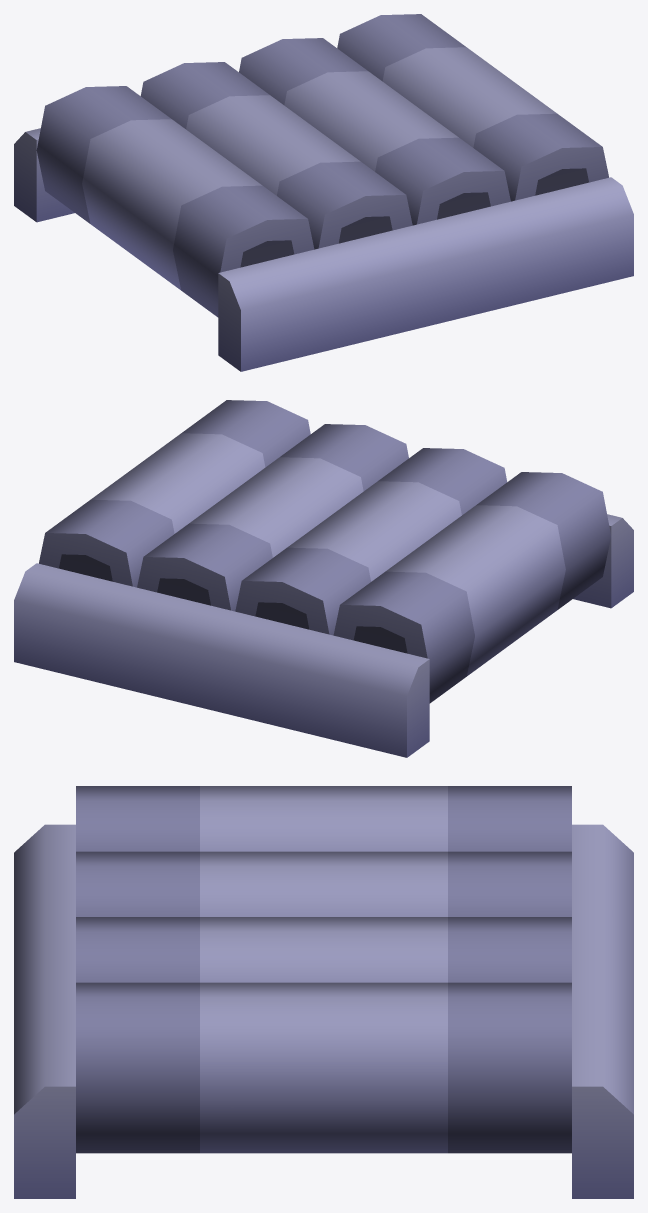
The model's file is conveyor-bars-stripe-side.fbx.
The picture shows the model from 3 angles, top to bottom: view 1: azimuth 30°, elevation 25°; view 2: azimuth 150°, elevation 25°; view 3: azimuth 270°, elevation 25°; orthographic projection. The views are drawn at different scales.
Visible parts, largest first — view 1: conveyor-bars-stripe-side; view 2: conveyor-bars-stripe-side; view 3: conveyor-bars-stripe-side.
Boxes of the visible parts, x1,y1,x2,y2 form: conveyor-bars-stripe-side: (14,14,633,371); conveyor-bars-stripe-side: (14,400,633,757); conveyor-bars-stripe-side: (14,786,633,1198).
Bounding box in the file's own units: 100 × 30 × 100.
1 material, 1 textured.
